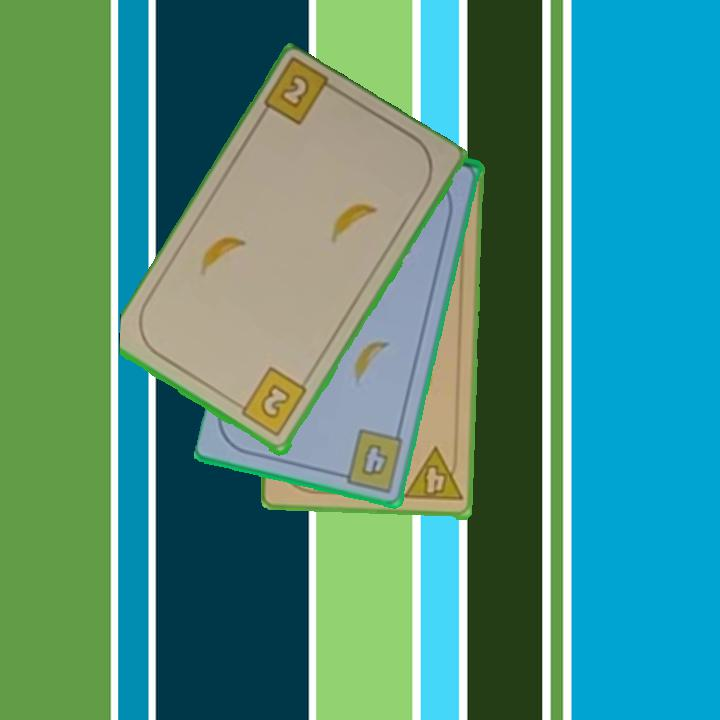2b: (232, 364, 310, 440), (276, 70, 313, 112)
4b: (333, 425, 407, 495)
4p: (400, 446, 465, 505)
